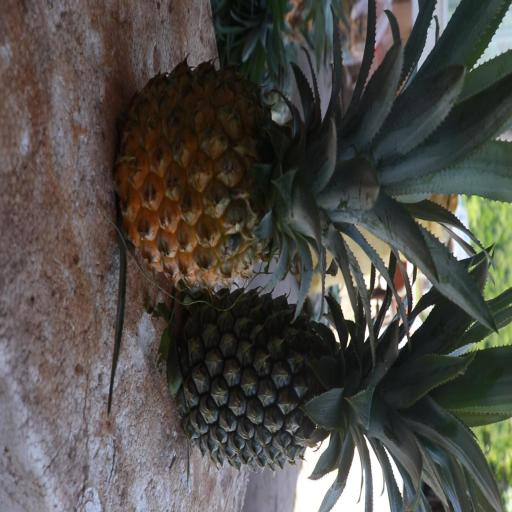Pineapple - v8 v1: (123, 62, 432, 290)
